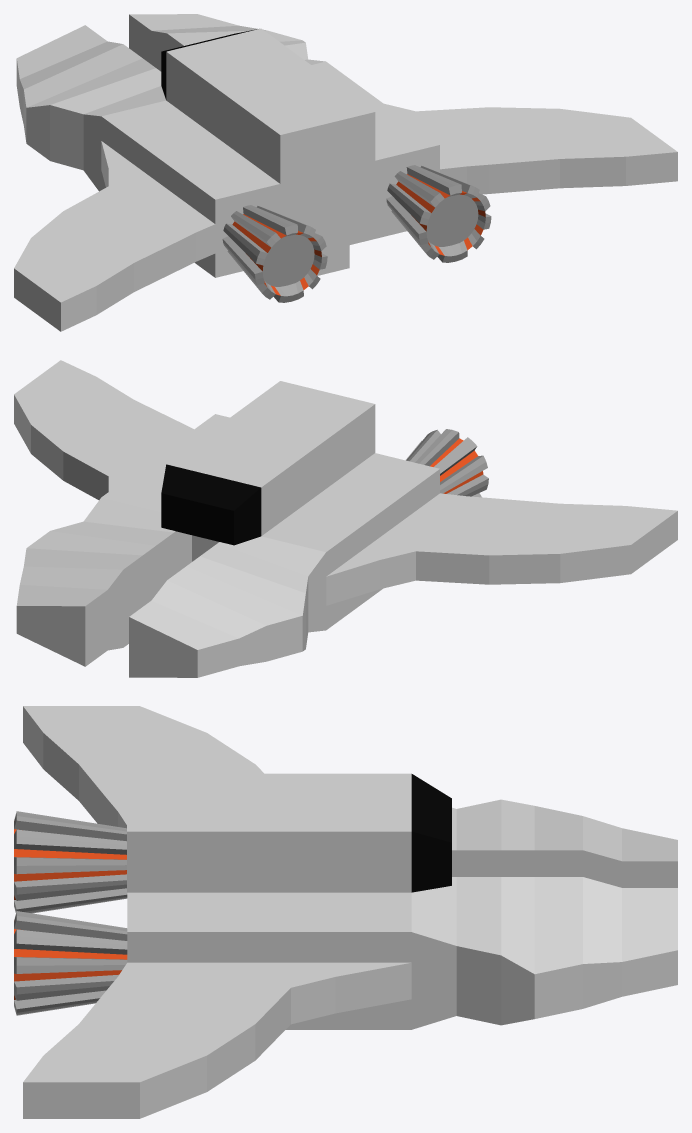
File: ShipS4.fbx
3 renders of one model, top to bottom at view 1: azimuth 30°, elevation 25°; view 2: azimuth 150°, elevation 25°; view 3: azimuth 270°, elevation 25°, orthographic. The views are drawn at different scales.
Parts seen in each view (by area): view 1: Cube, Engine1.001, Engine1; view 2: Cube, Engine1; view 3: Cube, Engine1, Engine1.001.
Part boxes in pixels (bbox=[...]): Cube: bbox=[14, 14, 677, 331]; Engine1.001: bbox=[386, 165, 491, 262]; Engine1: bbox=[222, 205, 327, 302]; Cube: bbox=[14, 360, 677, 677]; Engine1: bbox=[406, 429, 488, 497]; Cube: bbox=[23, 706, 677, 1118]; Engine1: bbox=[14, 811, 127, 913]; Engine1.001: bbox=[14, 911, 127, 1015].
Size of the model in its own units: 1041 by 242 by 776.
